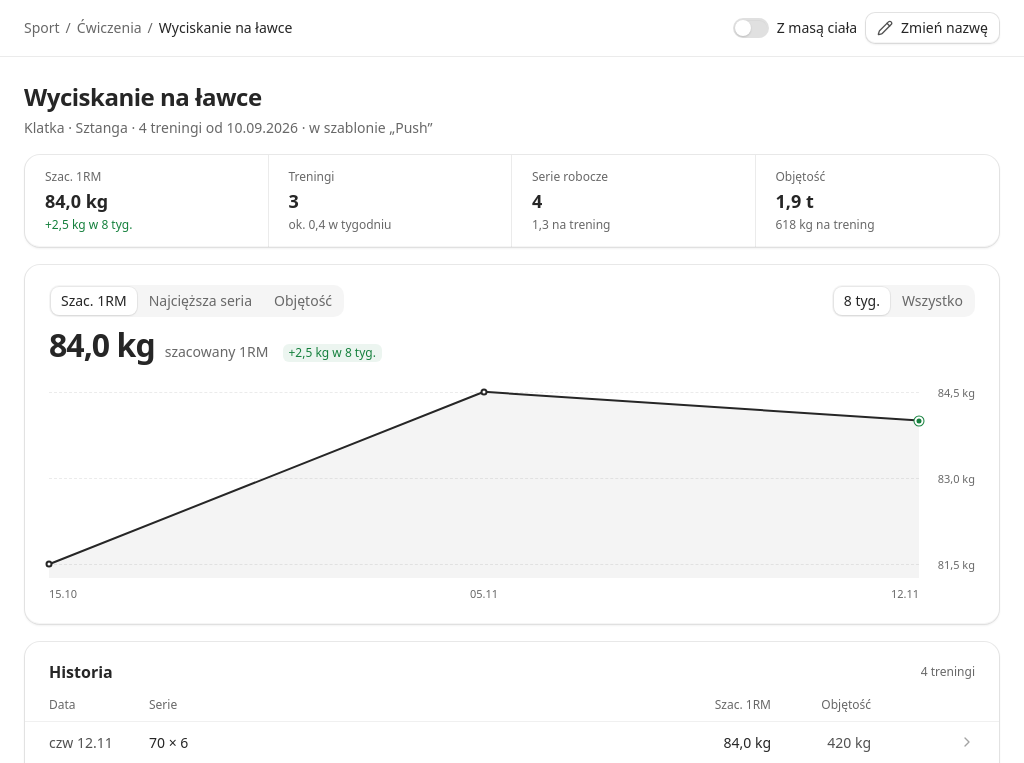
Test: ExerciseDetail › wykres: przełącznik miary i dymek po najechaniu
The width and height of the screenshot is (1024, 763).
expect the number of elements with test id "punkt-wykresu" is 3: met, box 46,561 -> 52,568; 480,388 -> 488,395; 914,416 -> 924,425
expect the text with test id "liczba-wykresu" reads "84,0 kg": met, box 49,323 -> 155,366
Hover over the button named "czw 05.11.2026: 84,5 kg, najlepsza seria 72,5 × 5": (484, 478) 266,378 -> 702,578
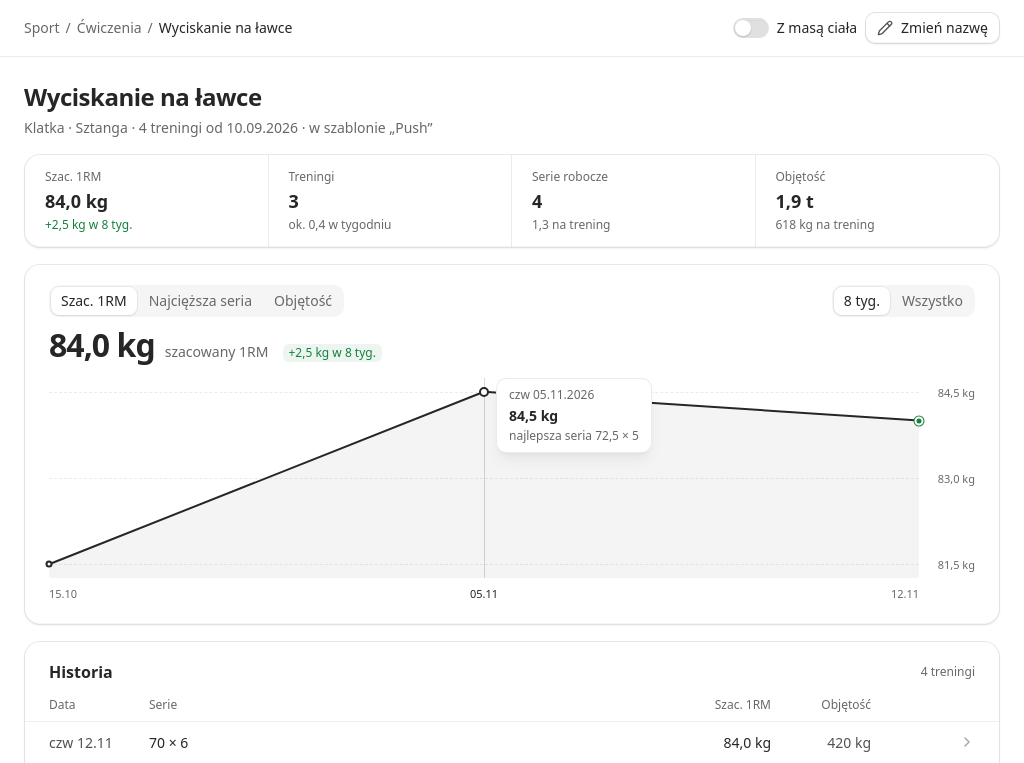
expect the tooltip reads "czw 05.11.2026 84,5 kg najlepsza seria 72,5 × 5": met, box 496,378 -> 652,453
Click the radio button labelled "Najcięższa seria": (200, 301) 139,287 -> 262,315
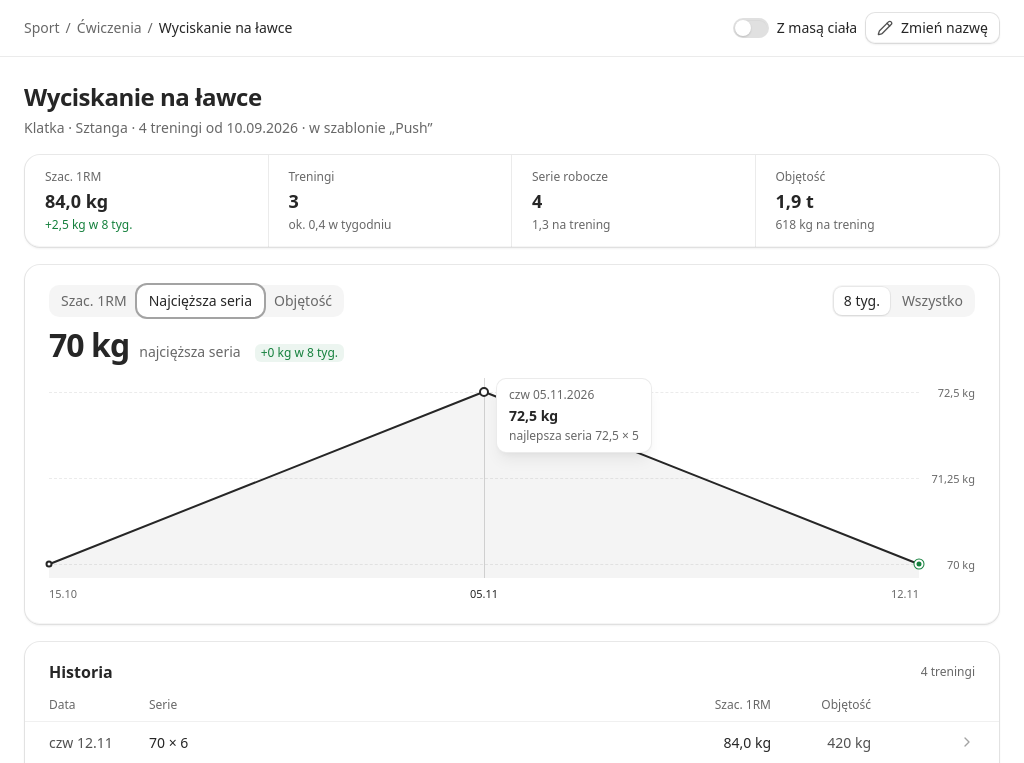
expect the text with test id "liczba-wykresu" reads "70 kg": met, box 49,323 -> 129,366
Click the radio button labelled "Objętość": (303, 301) 264,287 -> 342,315
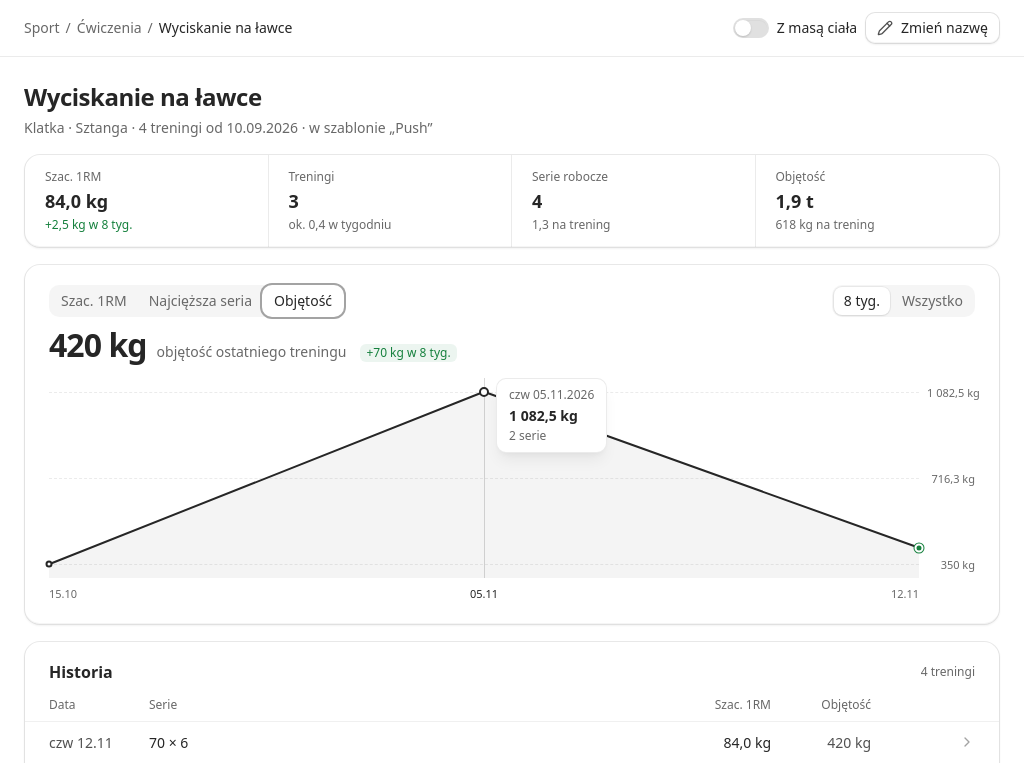
expect the text with test id "liczba-wykresu" reads "420 kg": met, box 49,323 -> 147,366
